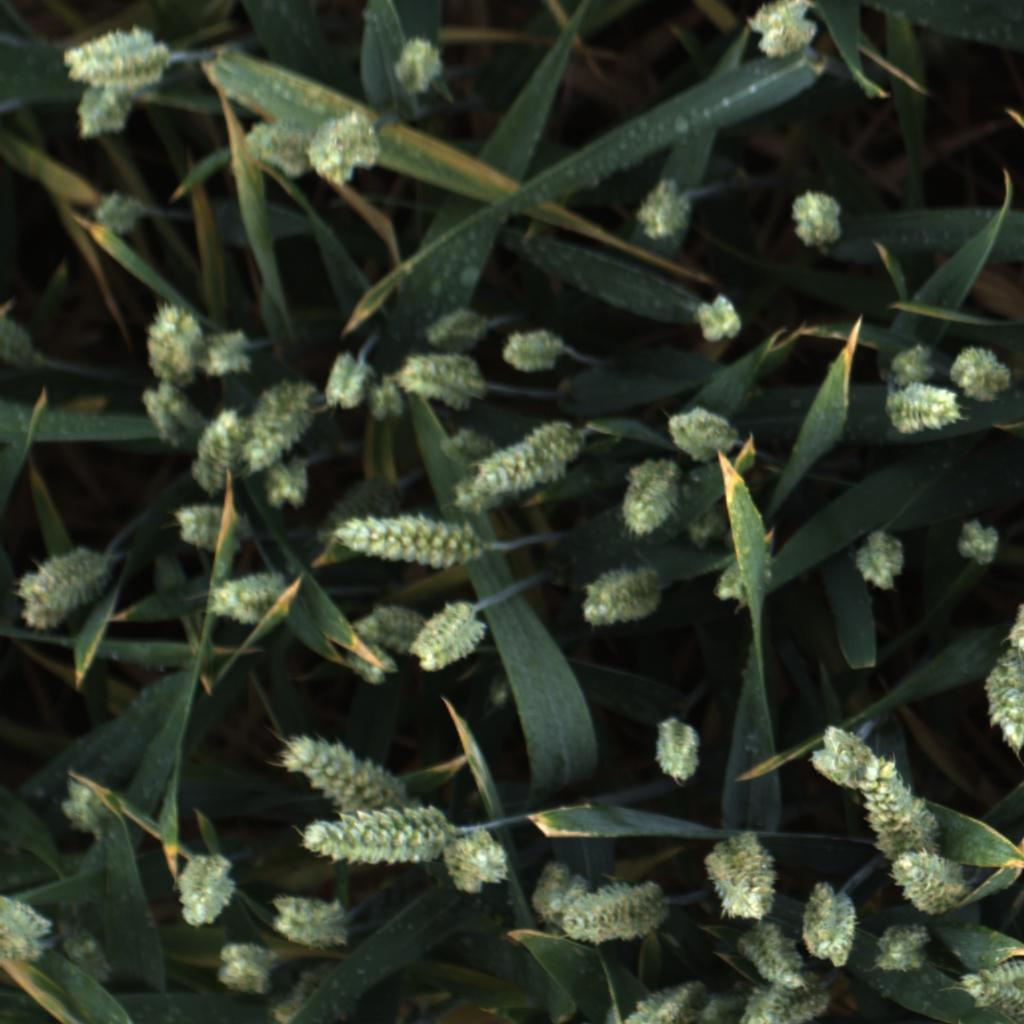0-0: (445, 412, 578, 526), (292, 801, 448, 870), (272, 724, 400, 806), (327, 515, 487, 571), (860, 754, 947, 854), (562, 873, 673, 949), (241, 378, 329, 473), (19, 548, 115, 627), (304, 469, 405, 543), (705, 829, 782, 925), (309, 103, 388, 191), (57, 20, 165, 84), (410, 595, 490, 675), (165, 847, 238, 930), (798, 876, 859, 973), (580, 563, 662, 634), (269, 887, 355, 952), (613, 457, 681, 538), (394, 350, 492, 405), (739, 0, 824, 63), (886, 850, 968, 914), (802, 725, 879, 793), (203, 567, 289, 627), (190, 406, 245, 498), (846, 527, 915, 599), (67, 80, 140, 147), (713, 539, 780, 612), (231, 116, 306, 180), (382, 28, 450, 98), (887, 382, 967, 440), (738, 915, 810, 979), (444, 829, 510, 898), (139, 377, 199, 452), (523, 859, 590, 926), (630, 177, 697, 244), (781, 185, 850, 250), (146, 299, 199, 381), (664, 404, 741, 459), (739, 975, 825, 1024), (2, 888, 57, 964), (951, 339, 1015, 403), (979, 662, 1024, 753), (651, 718, 709, 788), (215, 933, 278, 997), (947, 515, 1009, 577), (421, 302, 491, 356), (46, 778, 109, 838), (959, 949, 1024, 1007), (498, 323, 566, 378), (83, 184, 150, 239), (616, 980, 698, 1024), (196, 323, 258, 381), (688, 292, 750, 350), (258, 450, 313, 515), (871, 916, 932, 974), (169, 496, 231, 553), (346, 595, 410, 649), (320, 353, 375, 412), (881, 335, 941, 389), (347, 647, 403, 691), (956, 986, 1024, 1022), (433, 422, 493, 462), (690, 985, 748, 1024), (363, 377, 407, 426), (783, 991, 839, 1024), (992, 603, 1024, 654), (686, 505, 724, 541), (1015, 0, 1024, 3)
